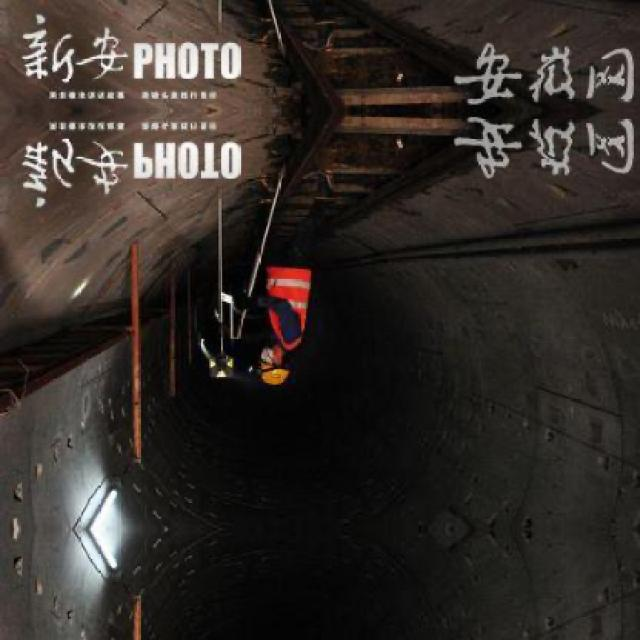con casco: (250, 357, 292, 397)
